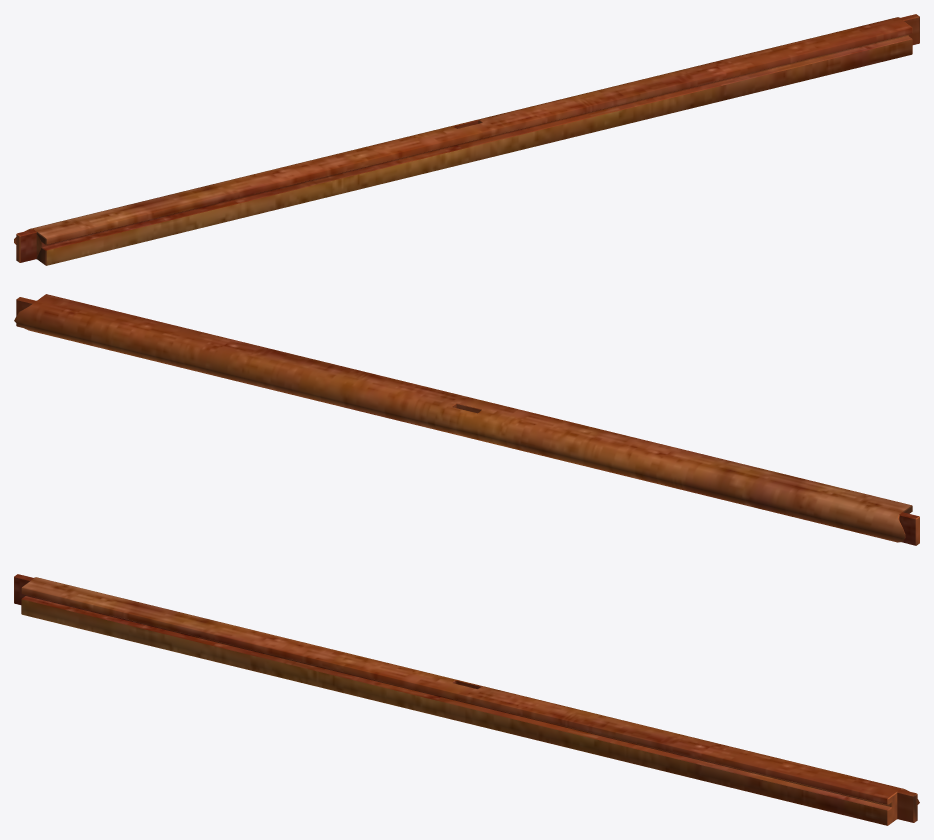
Rendered from SJ_J_dgdb_2_04.FBX.
3 renders of one model, top to bottom at view 1: azimuth 30°, elevation 25°; view 2: azimuth 150°, elevation 25°; view 3: azimuth 330°, elevation 25°, orthographic.
Visible parts, largest first — view 1: SJ_J_dgdb_2_04; view 2: SJ_J_dgdb_2_04; view 3: SJ_J_dgdb_2_04.
Part boxes in pixels (box(x1,y1,x2,y2)): SJ_J_dgdb_2_04: box(14, 14, 919, 265); SJ_J_dgdb_2_04: box(14, 294, 919, 545); SJ_J_dgdb_2_04: box(14, 574, 919, 825).
Size of the model in its own units: 103 by 3 by 3.94.
